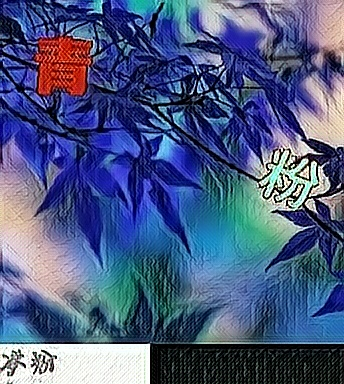B7DB: (258, 146, 320, 210)
C7E0: (33, 32, 95, 96)
